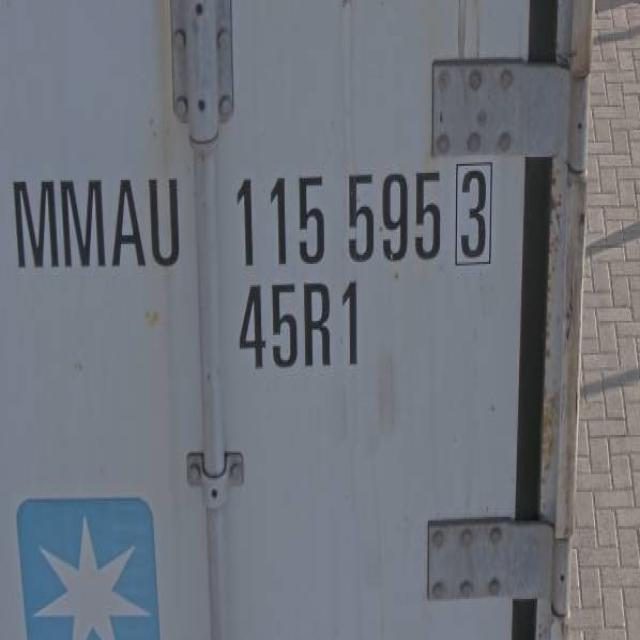dv: (451, 153, 496, 272)
owner: (6, 154, 185, 286)
serial: (230, 148, 446, 275)
size: (230, 279, 378, 380)
